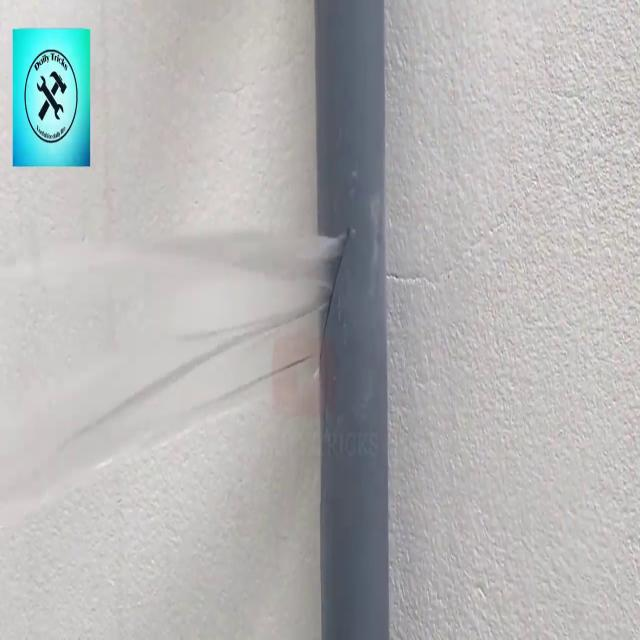leak: (0, 223, 352, 540)
